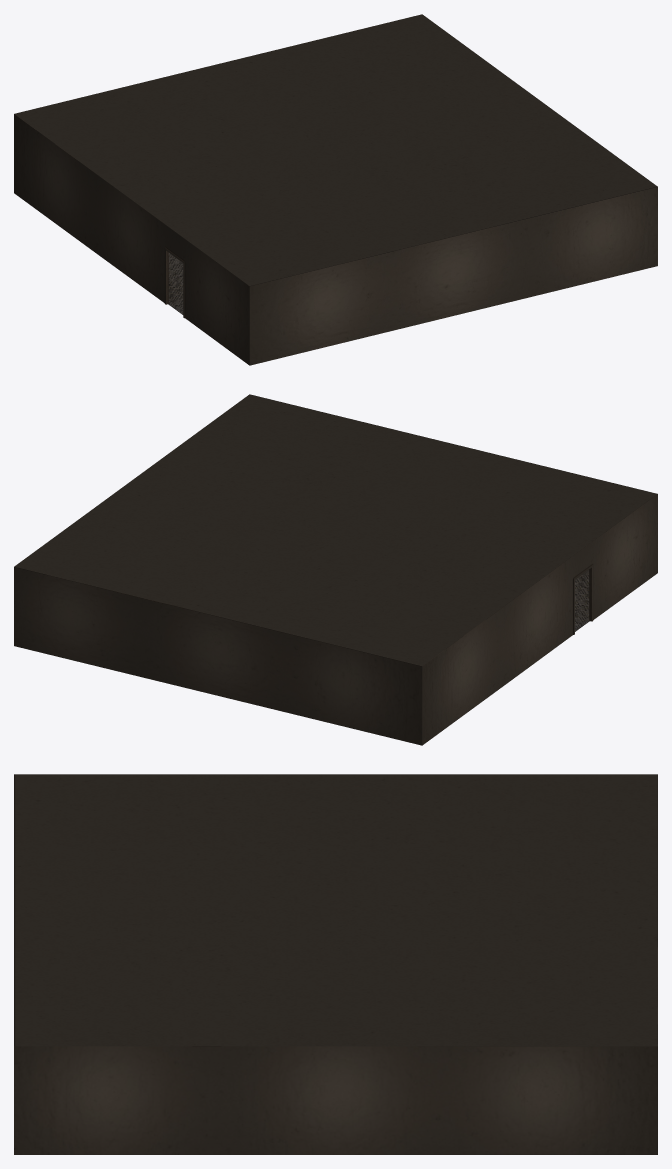
The model's file is Zombiehouse.glb.
The picture shows the model from 3 angles, top to bottom: view 1: azimuth 30°, elevation 25°; view 2: azimuth 150°, elevation 25°; view 3: azimuth 270°, elevation 25°; orthographic projection. The views are drawn at different scales.
Parts seen in each view (by area): view 1: Base; view 2: Base; view 3: Base.
Part boxes in pixels (x1=…): Base: x1=14, y1=14, x2=657, y2=365; Base: x1=14, y1=394, x2=657, y2=745; Base: x1=14, y1=774, x2=657, y2=1154.
Size of what is drawn, in the model's own units: 16.18 by 3 by 16.16.
4 materials, 3 textured.
